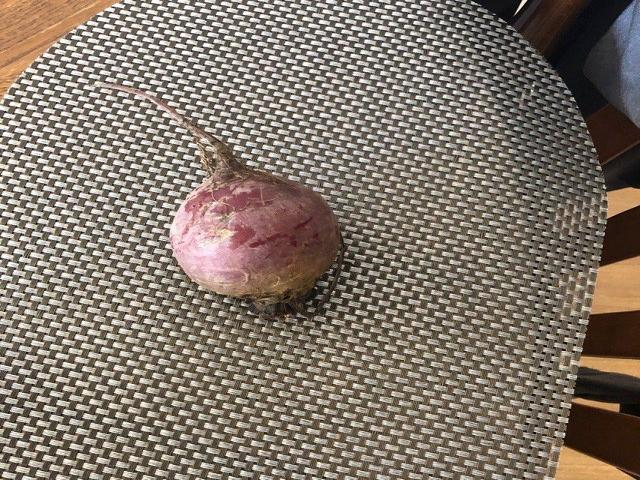beet: (94, 81, 342, 320)
